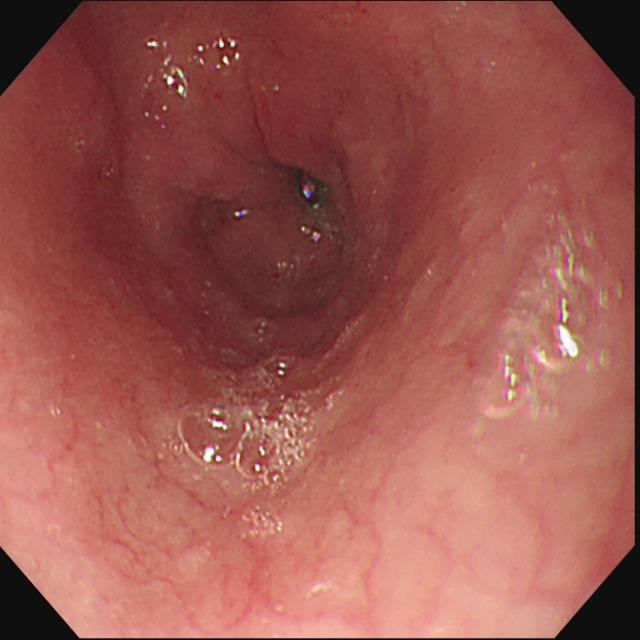I: (220, 123, 356, 271)
T: (169, 353, 320, 494)
U: (501, 233, 582, 405), (147, 38, 188, 102), (194, 37, 239, 72)
